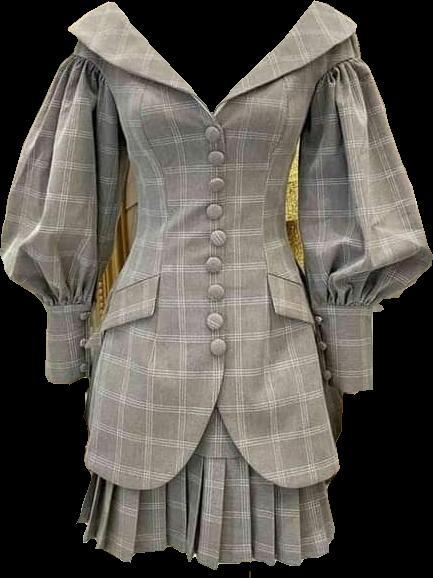Bodice: (68, 0, 360, 231)
Hemline: (83, 398, 342, 493), (76, 517, 338, 571)
Neckline: (110, 0, 319, 117)
Skirt: (78, 228, 340, 569)
Sleeve: (296, 55, 430, 394), (0, 56, 128, 384)
Sleeveline: (70, 53, 131, 161), (295, 55, 362, 147), (313, 301, 374, 312), (42, 299, 92, 311)
Waistline: (228, 25, 359, 99), (67, 28, 193, 97)
